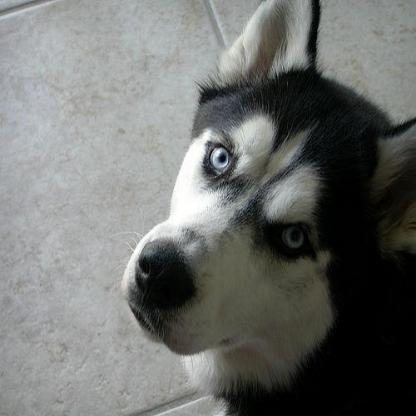Eskimo_dog: (108, 0, 414, 413)
